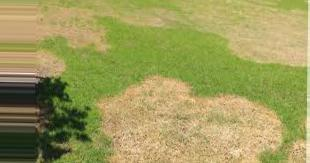patch: (111, 95, 261, 158), (236, 8, 307, 61), (47, 3, 98, 41), (188, 1, 222, 30), (40, 52, 61, 77)
